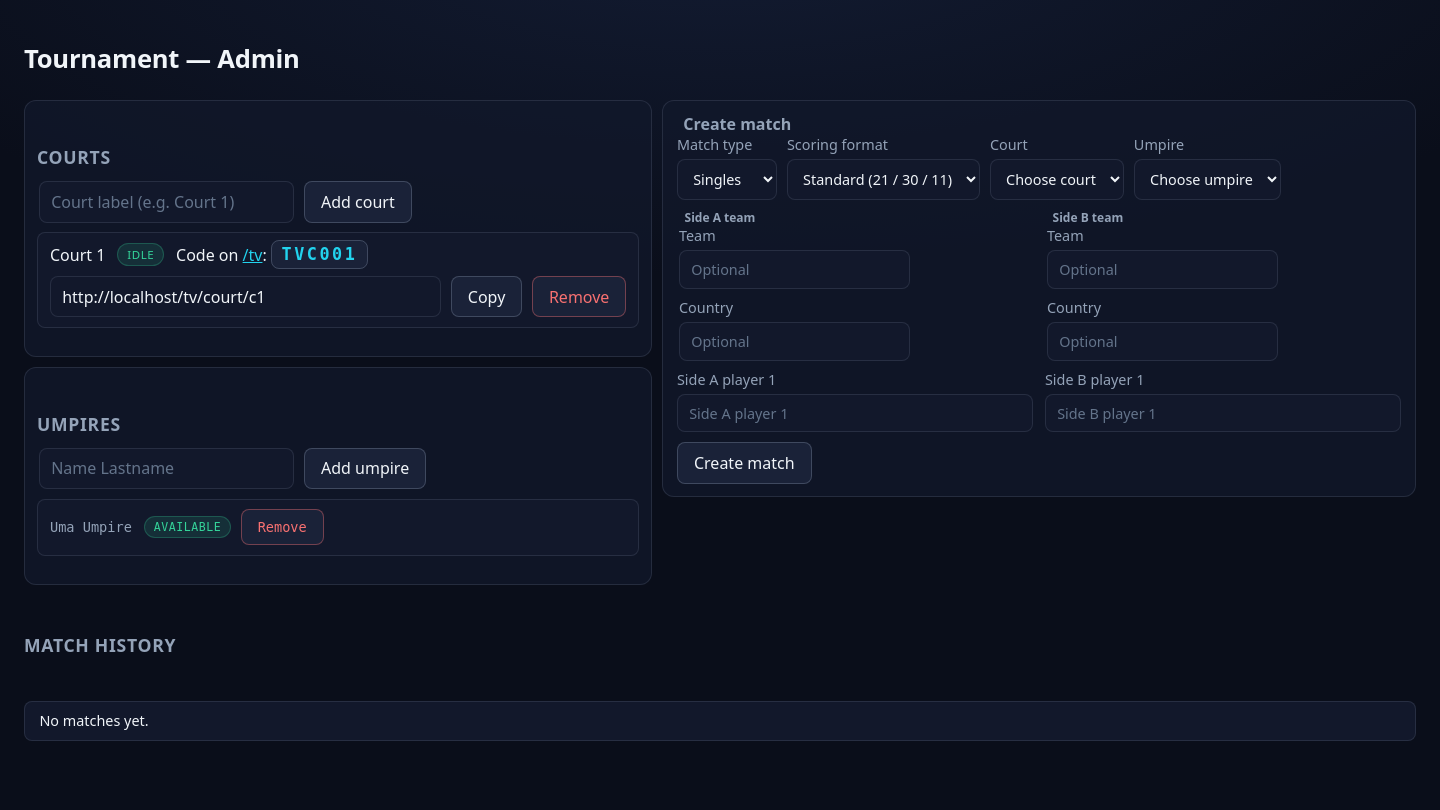
Test: AdminDashboard › courts › shows the server error message when court removal fails
Check: the text "Court 1" is shown, box [50,244,105,266]
Click the button "Remove" below "TVC001" at [579, 297], box [532,276,626,318]
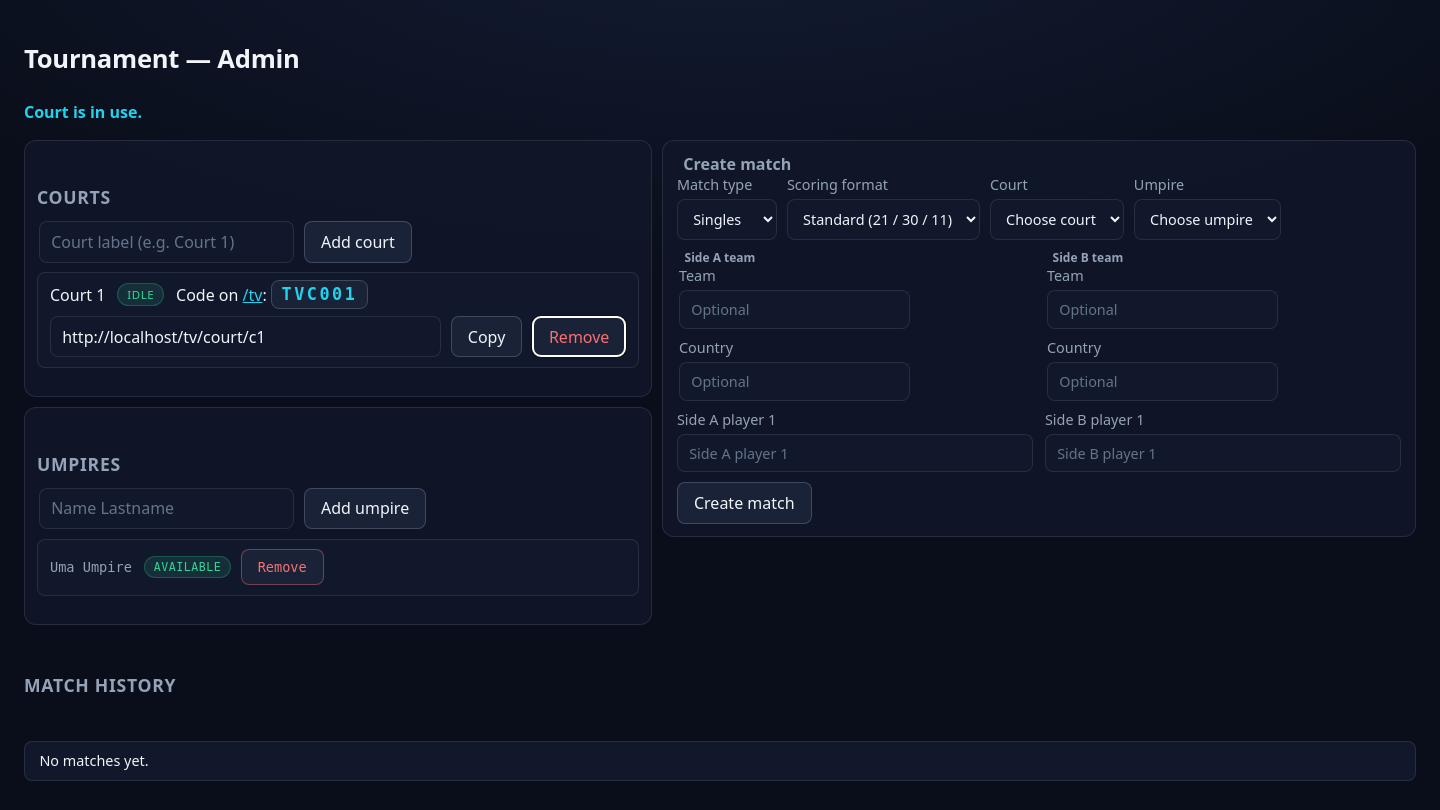
Check: the text "Court is in use." is shown, box [24,101,142,123]
